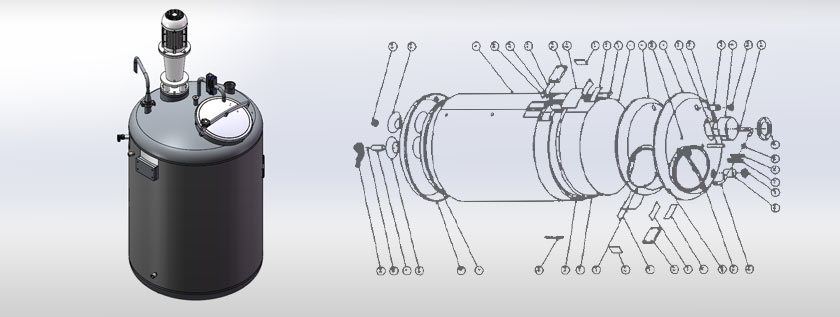nozzle: (220, 75, 242, 97)
